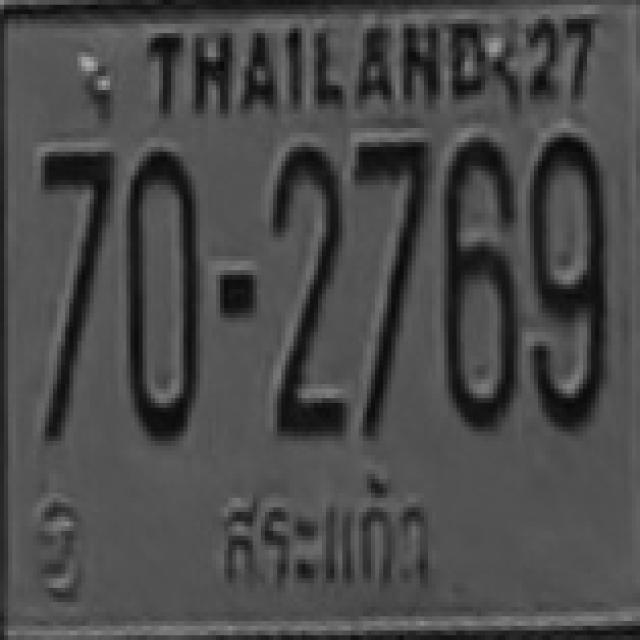0: (124, 147, 198, 356), (526, 130, 603, 316)
7: (353, 137, 426, 313), (41, 147, 114, 308)
9: (526, 147, 603, 427), (526, 194, 603, 427)
SaKaeo: (208, 472, 442, 602)
